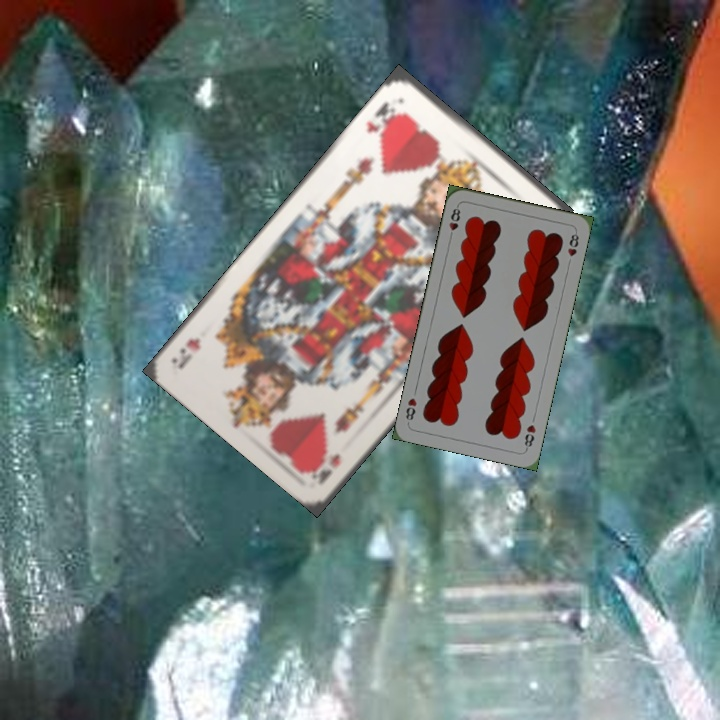H8: (445, 202, 463, 242), (520, 420, 538, 452)
HK: (362, 97, 401, 138), (314, 449, 343, 486)
